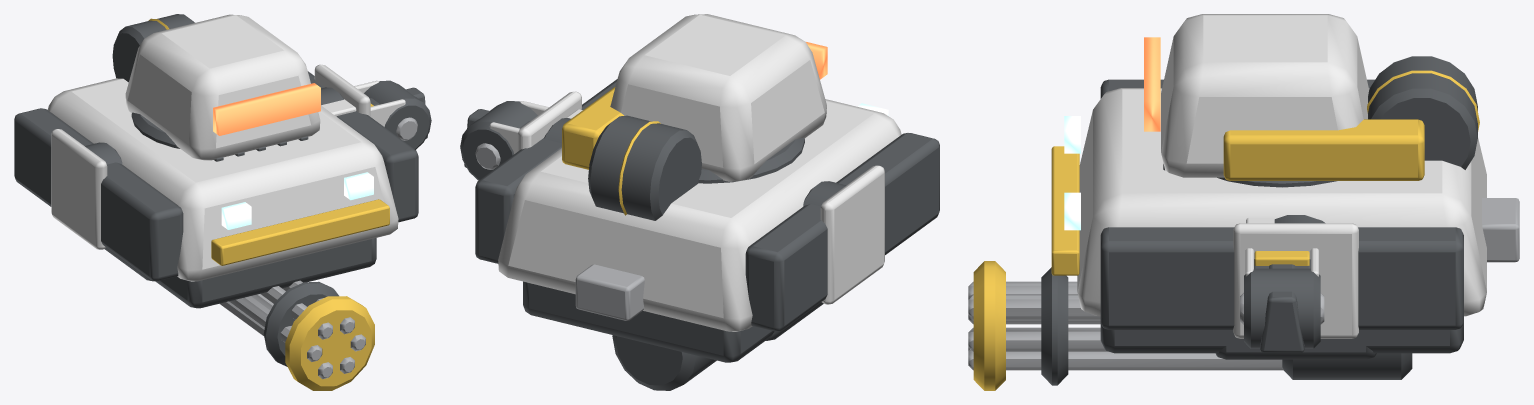
File: auto.glb
3 renders of one model, left to right at view 1: azimuth 30°, elevation 25°; view 2: azimuth 150°, elevation 25°; view 3: azimuth 270°, elevation 25°, orthographic. The views are drawn at different scales.
Parts seen in each view (by area): view 1: Hull, Turret, Barrel, LegUpper; view 2: Hull, Turret, LegUpper, Barrel; view 3: Hull, Turret, Barrel, LegUpper, LegLower.
Part boxes in pixels (x1,y1,x2,y2): Hull: (14,14,418,308); Turret: (125,14,320,160); Barrel: (219,280,374,390); LegUpper: (321,80,431,149); Hull: (475,79,939,362); Turret: (562,14,827,183); LegUpper: (460,101,582,180); Barrel: (612,335,716,390); Hull: (1051,56,1519,359); Turret: (1144,14,1424,187); Barrel: (968,261,1412,390); LegUpper: (1240,217,1324,348); LegLower: (1254,251,1309,352).
Bounding box in the file's own units: 0.726 × 0.5465 × 0.7895.
